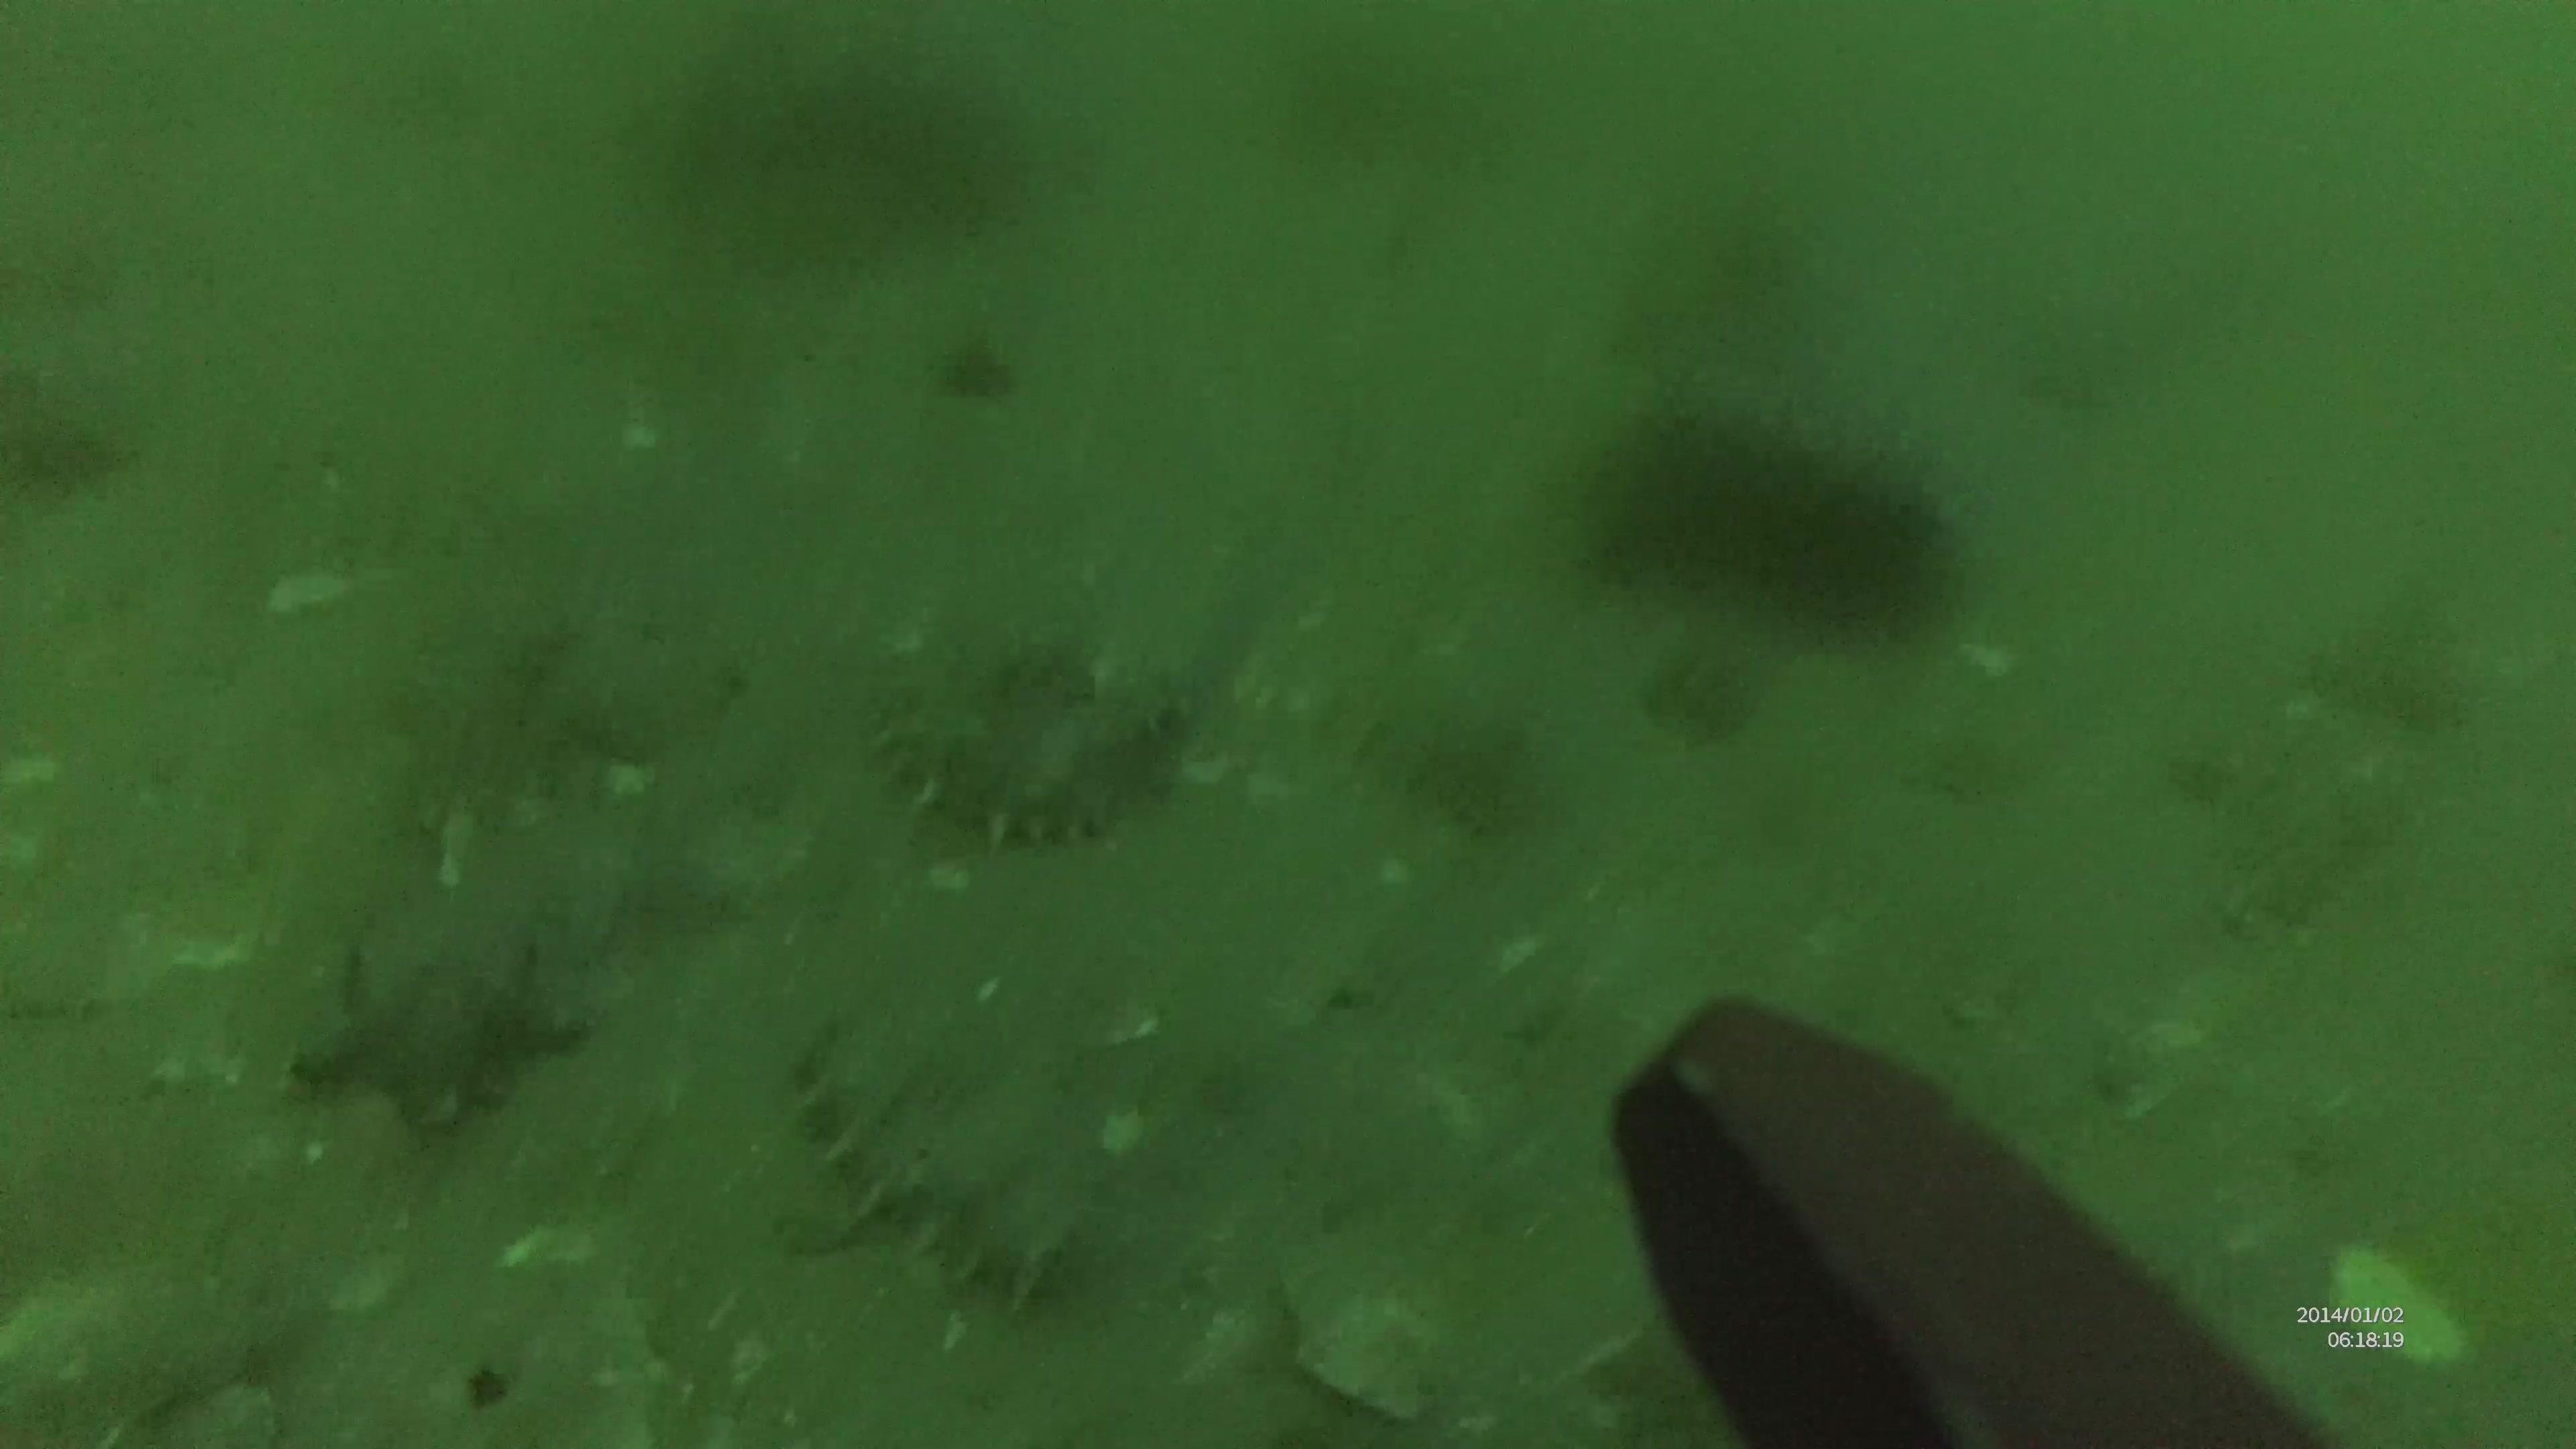echinus: (1601, 416, 1817, 586), (1759, 458, 1941, 642)
holothurian: (777, 1060, 1051, 1295), (847, 644, 1169, 832)
scallop: (1269, 1226, 1442, 1426), (1955, 596, 2031, 685), (1072, 987, 1161, 1054), (269, 557, 361, 616)
starfish: (288, 931, 566, 1115)
